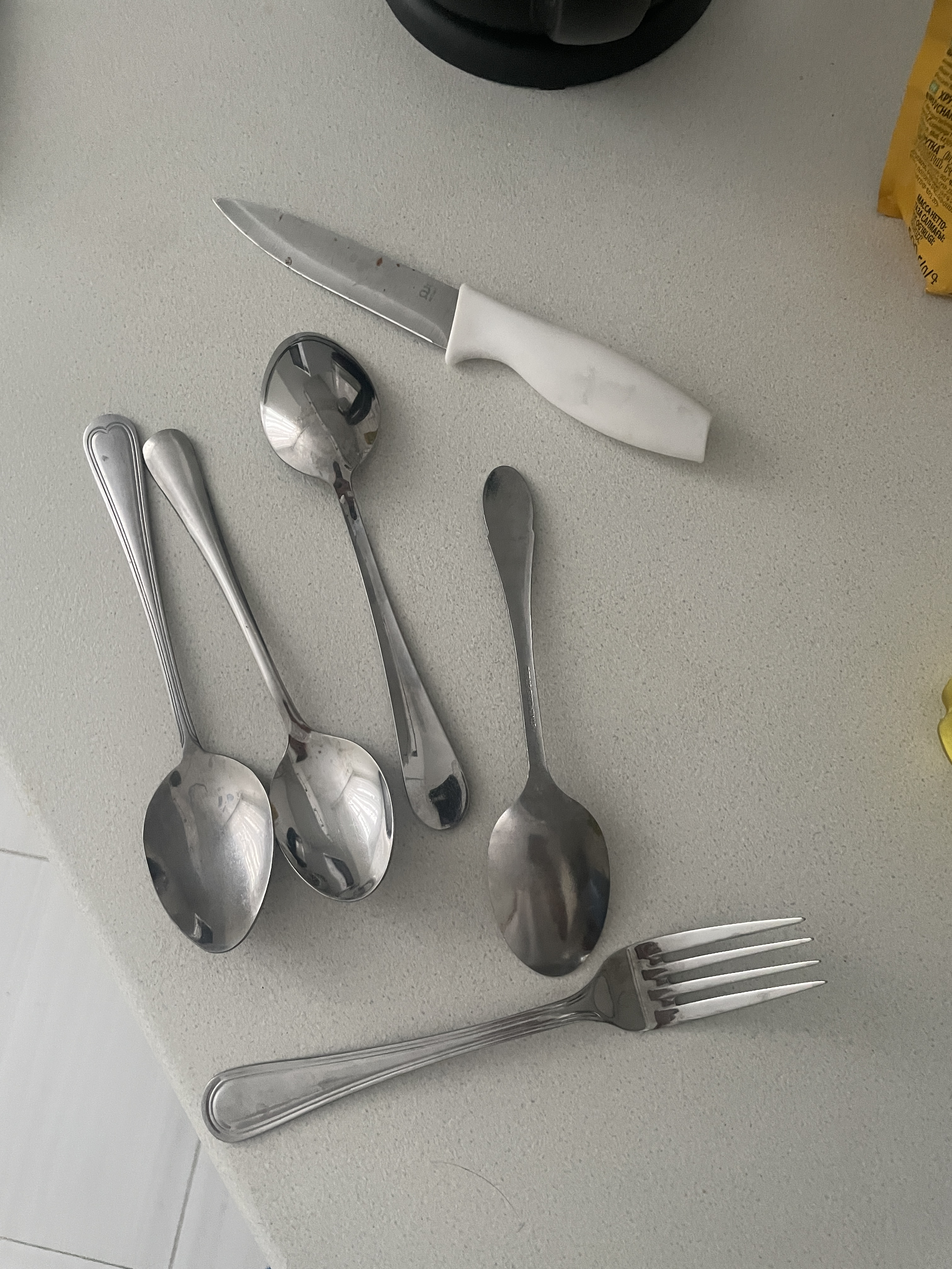knife: (210, 197, 715, 467)
spoon: (139, 429, 394, 902), (260, 332, 469, 837), (81, 414, 274, 952), (483, 463, 609, 978)
